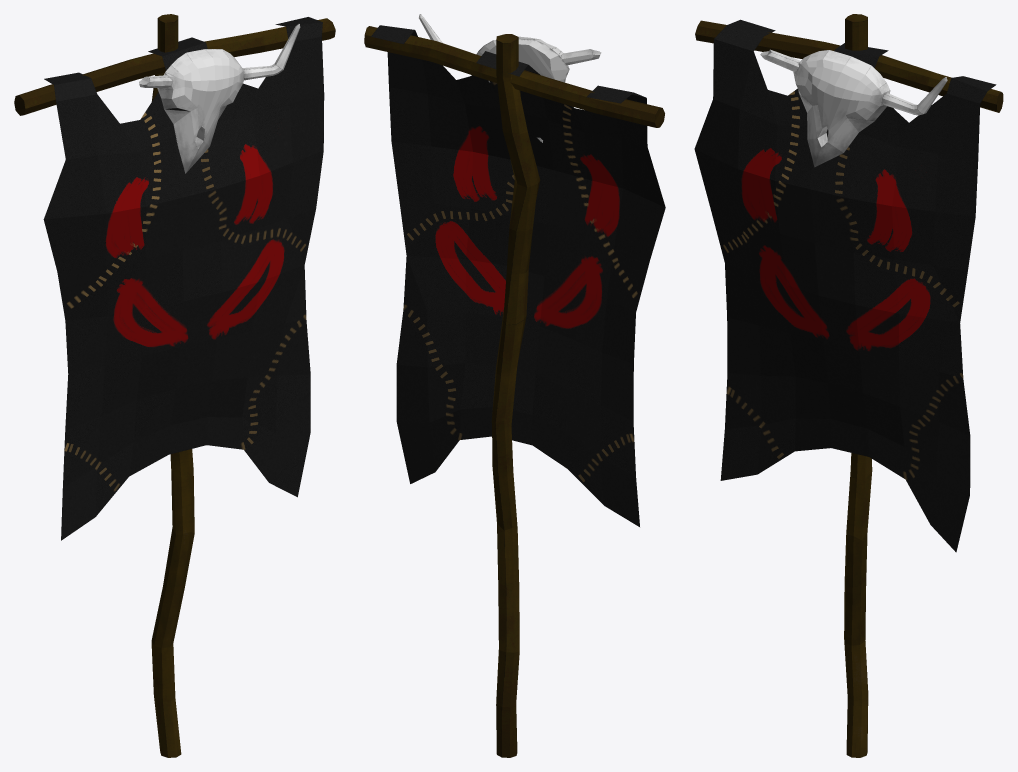
The model's file is goblinBanner.fbx.
3 renders of one model, left to right at view 1: azimuth 30°, elevation 25°; view 2: azimuth 150°, elevation 25°; view 3: azimuth 330°, elevation 25°, orthographic. The views are drawn at different scales.
Parts seen in each view (by area): view 1: goblinBanner; view 2: goblinBanner; view 3: goblinBanner.
Boxes of the visible parts, x1,y1,x2,y2 form: goblinBanner: [14, 14, 335, 757]; goblinBanner: [364, 14, 665, 757]; goblinBanner: [694, 14, 1003, 757].
Size of the model in its own units: 63.64 by 146 by 15.85.
